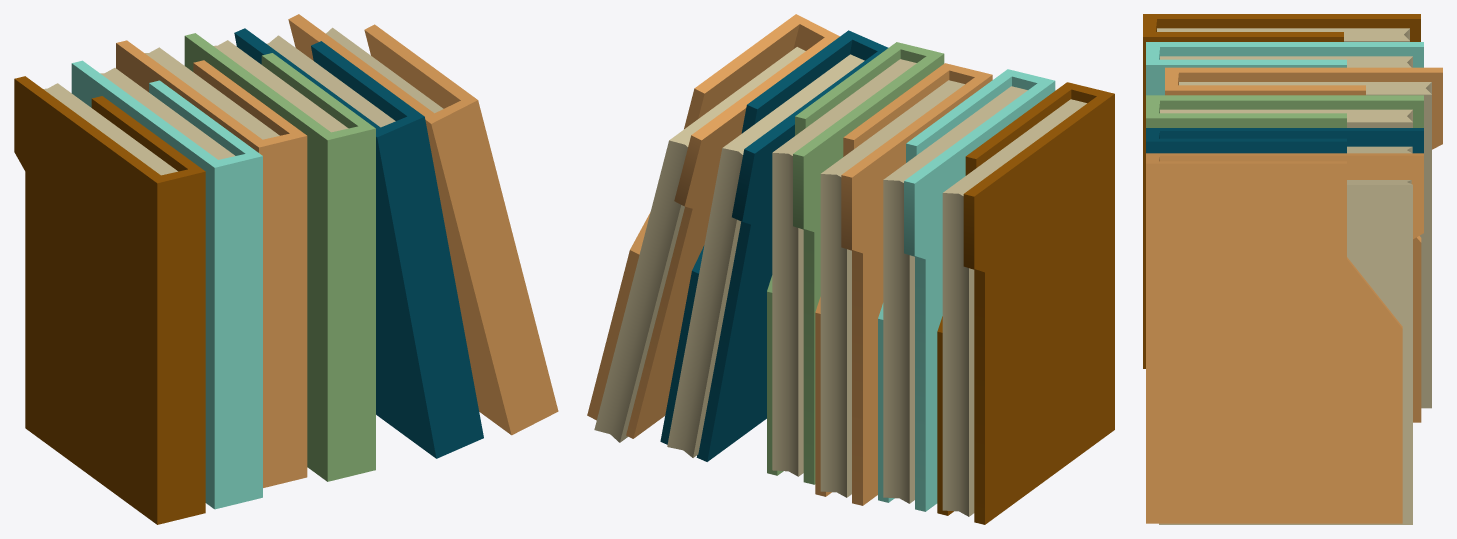
File: SM_Folders_A_GRP_03.fbx
3 views of the same model, side by side, from view 1: azimuth 30°, elevation 25°; view 2: azimuth 150°, elevation 25°; view 3: azimuth 270°, elevation 25° (orthographic). The views are drawn at different scales.
Visible parts, largest first — view 1: SM_Folders_A_GRP_03; view 2: SM_Folders_A_GRP_03; view 3: SM_Folders_A_GRP_03.
Boxes of the visible parts, x1=… form: SM_Folders_A_GRP_03: x1=14, y1=14, x2=558, y2=524; SM_Folders_A_GRP_03: x1=587, y1=14, x2=1114, y2=524; SM_Folders_A_GRP_03: x1=1143, y1=14, x2=1442, y2=524.
Size of the model in its own units: 37.01 by 30.62 by 24.54.
